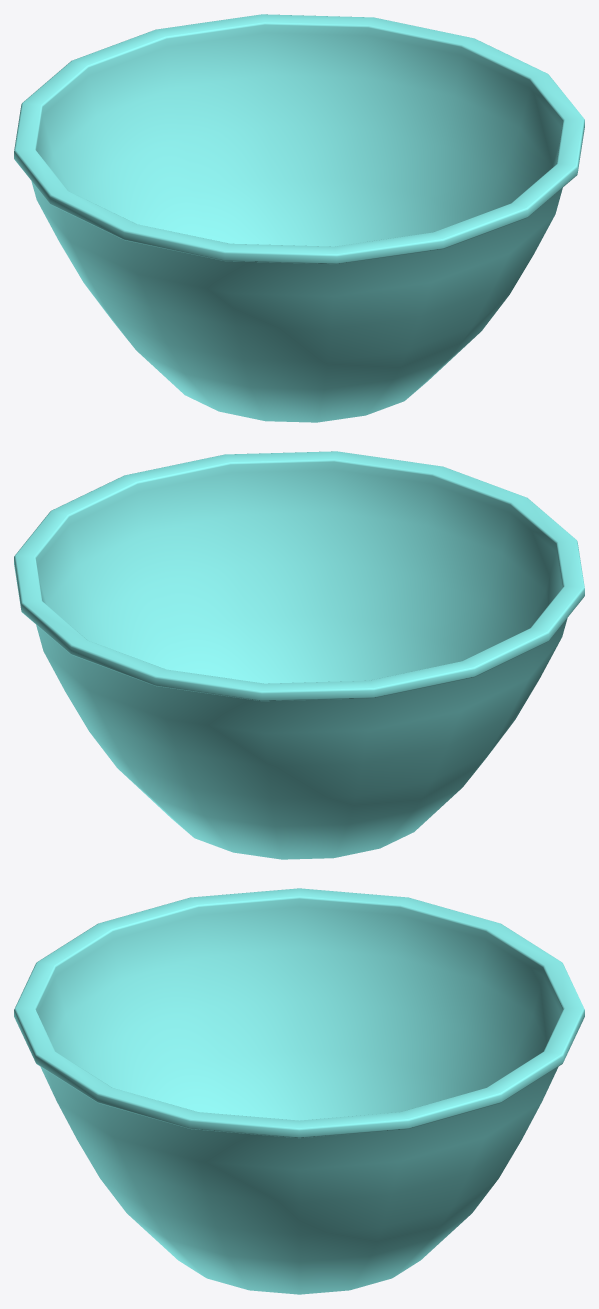
The model's file is P_Bowl.fbx.
The picture shows the model from 3 angles, top to bottom: view 1: azimuth 30°, elevation 25°; view 2: azimuth 150°, elevation 25°; view 3: azimuth 270°, elevation 25°; orthographic projection.
Visible parts, largest first — view 1: P_Bowl; view 2: P_Bowl; view 3: P_Bowl.
Boxes of the visible parts, x1,y1,x2,y2 form: P_Bowl: (14, 14, 584, 422); P_Bowl: (14, 451, 584, 859); P_Bowl: (14, 888, 584, 1294).
Bounding box in the file's own units: 3513 × 1568 × 3513.
